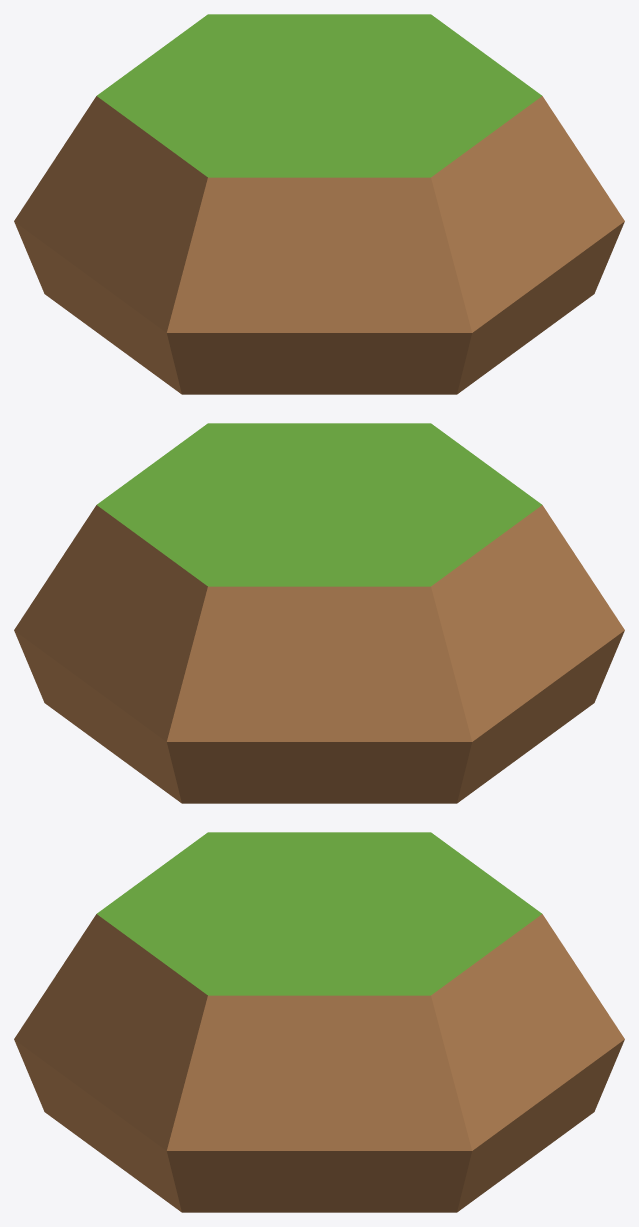
The model's file is rock_smallG.glb.
The picture shows the model from 3 angles, top to bottom: view 1: azimuth 30°, elevation 25°; view 2: azimuth 150°, elevation 25°; view 3: azimuth 270°, elevation 25°; orthographic projection.
Visible parts, largest first — view 1: rock_smallG; view 2: rock_smallG; view 3: rock_smallG.
Boxes of the visible parts, x1,y1,x2,y2 form: rock_smallG: [14, 14, 624, 394]; rock_smallG: [14, 423, 624, 803]; rock_smallG: [14, 832, 624, 1212].
Bounding box in the file's own units: 0.5937 × 0.2453 × 0.6855.
